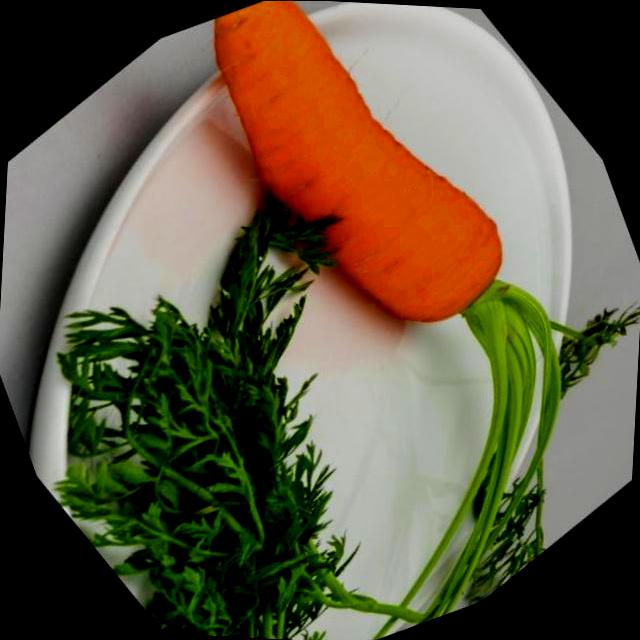carrot: (120, 0, 640, 574)
